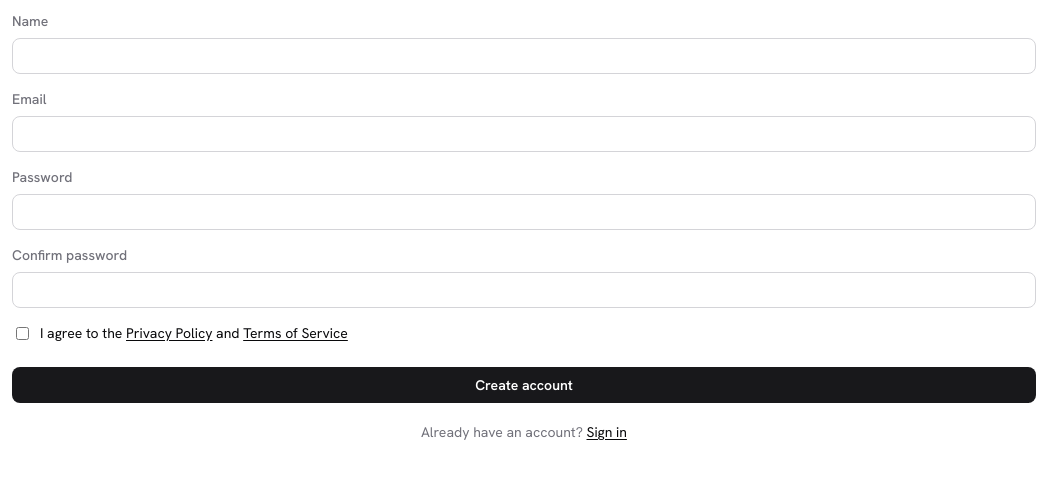
Test case: the sign-up form › will not send the sign-up when the two passwords differ, and says so
This screenshot has width=1048, height=491.
In the field labelled "Name": (524, 56) [12, 38, 1036, 74], type "Ada Lovelace"
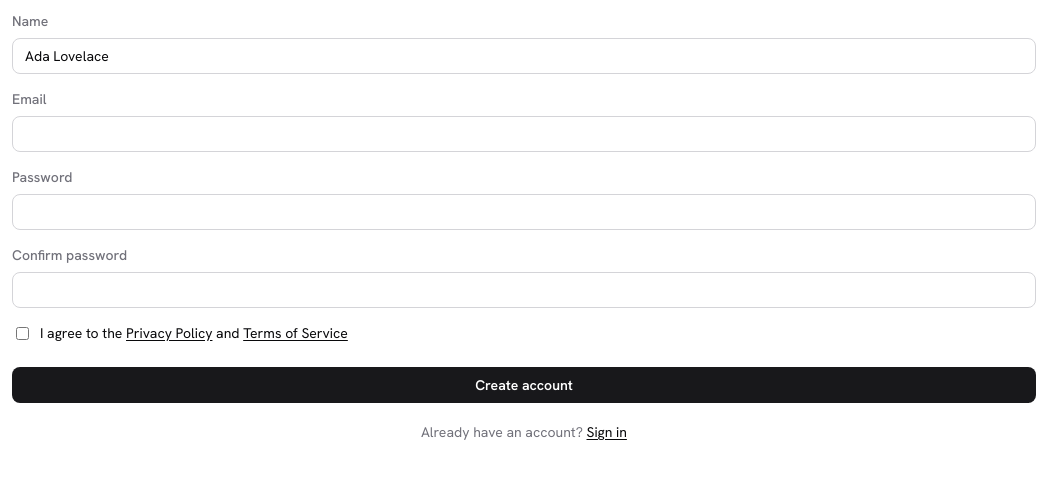
In the field labelled "Email": (524, 134) [12, 116, 1036, 152], type "ada@sovereign.local"
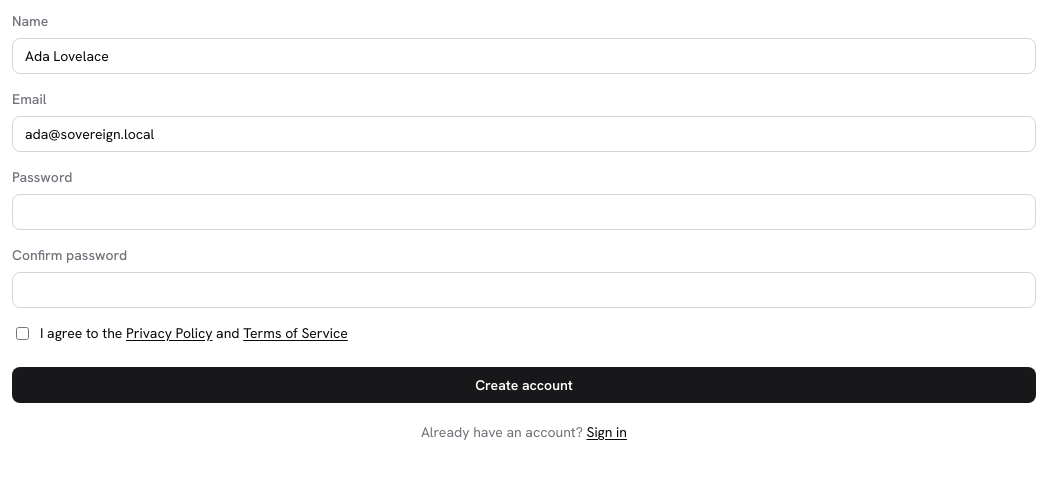
In the password field labelled "Password": (524, 212) [12, 194, 1036, 230], type "correct horse battery"
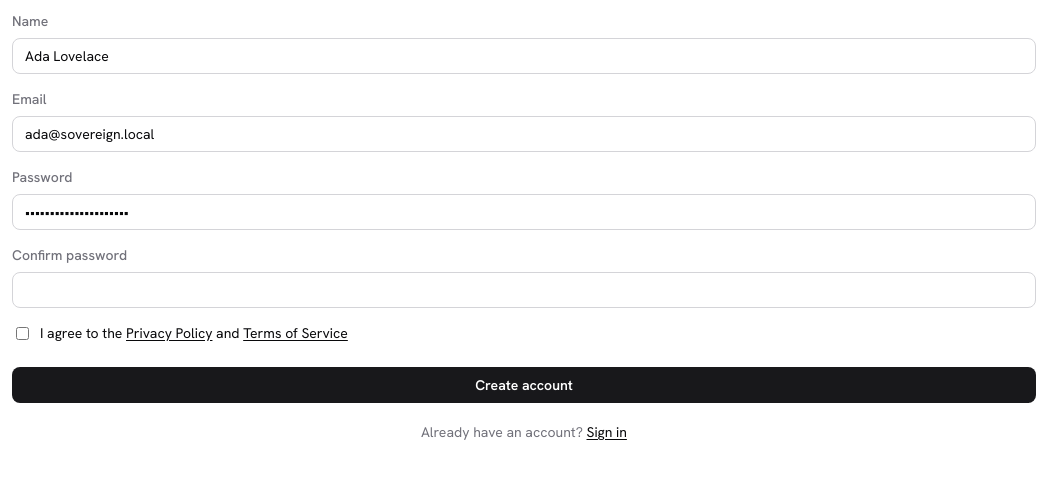
In the password field labelled "Confirm password": (524, 290) [12, 272, 1036, 308], type "correct horse batteri"
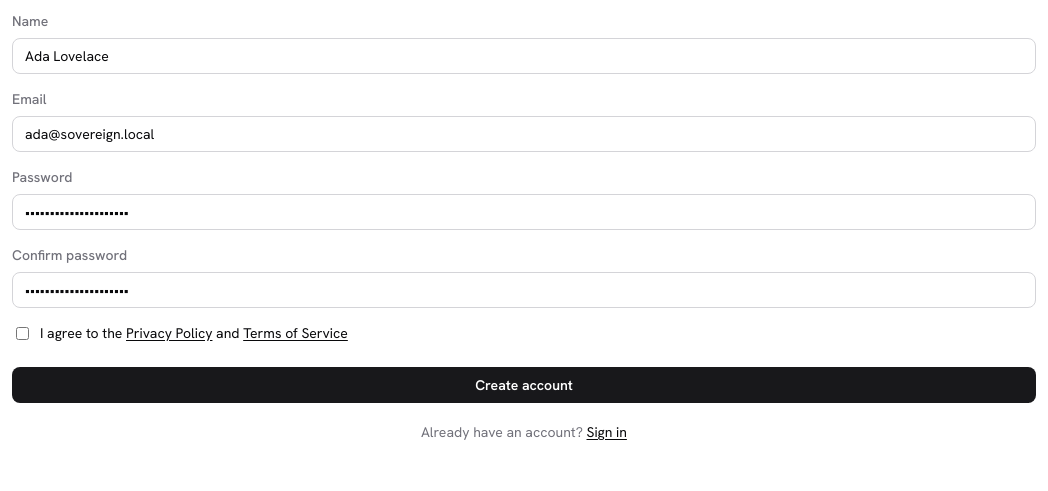
Click the checkbox labelled "I agree to the Privacy Policy and Terms of Service": click(22, 334) [16, 327, 29, 340]
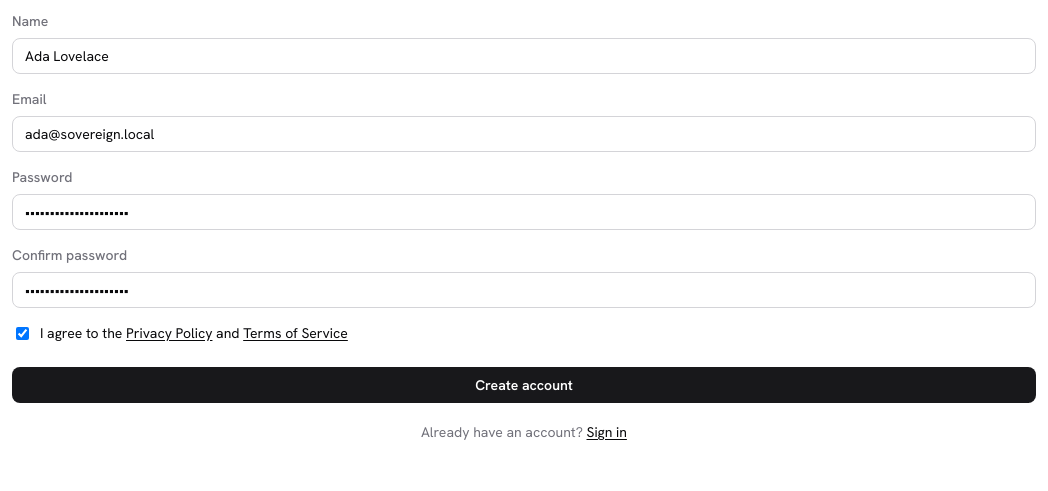
Click the button "Create account": click(524, 385) [12, 367, 1036, 403]
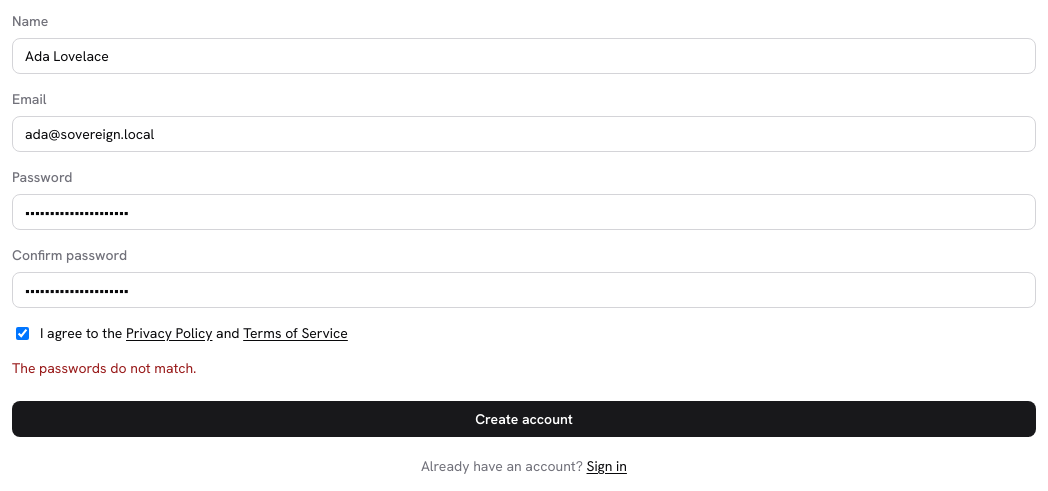
Check: the message shows "do not match", box [12, 359, 196, 377]
